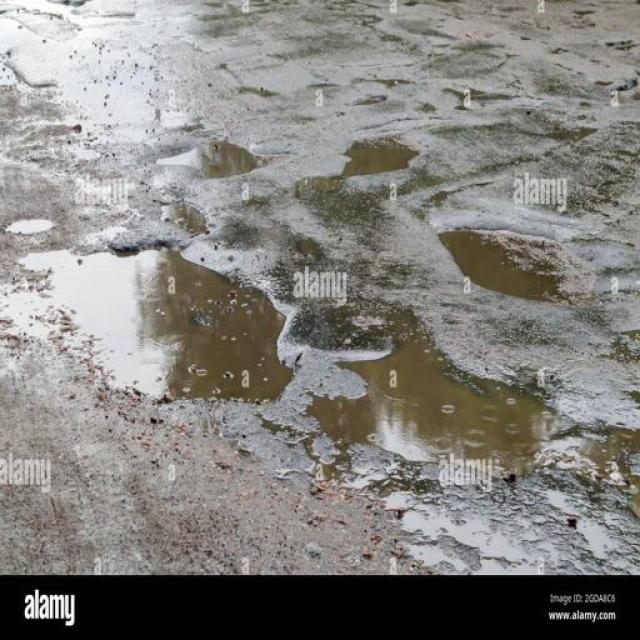puddle: (32, 253, 287, 395), (332, 330, 564, 479), (448, 232, 583, 308)
